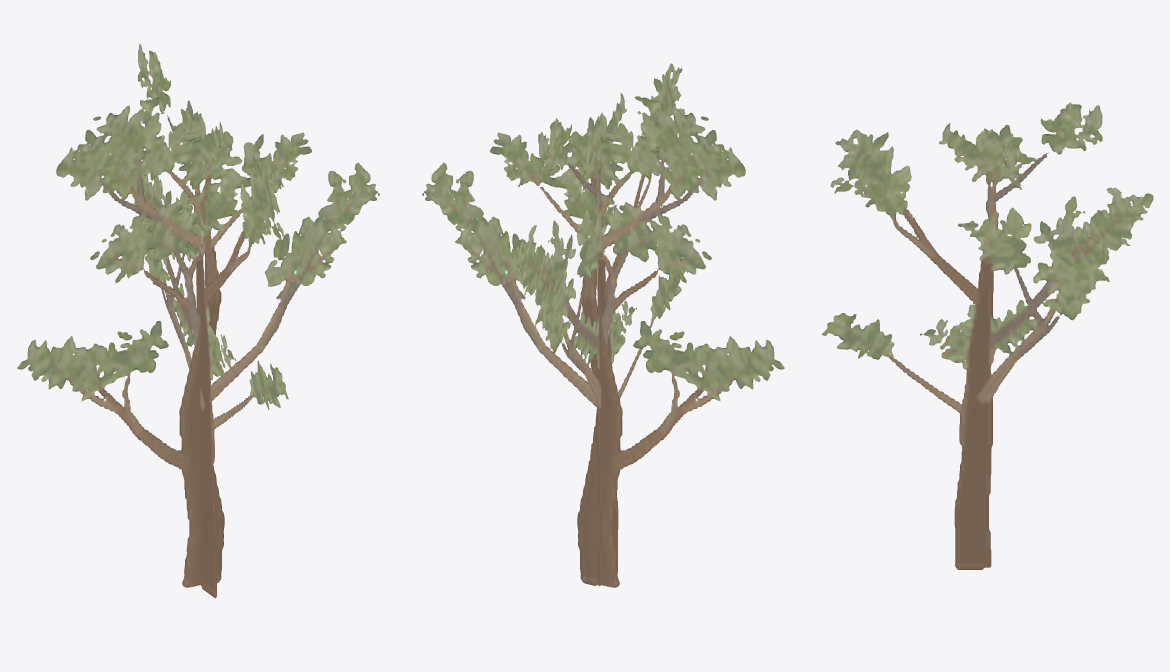
Rendered from t01-far.glb.
3 views of the same model, side by side, from view 1: azimuth 30°, elevation 25°; view 2: azimuth 150°, elevation 25°; view 3: azimuth 270°, elevation 25° (orthographic). The views are drawn at different scales.
Bounding box in the file's own units: 1.91 × 2.5 × 1.62.
1 material, 1 textured.
